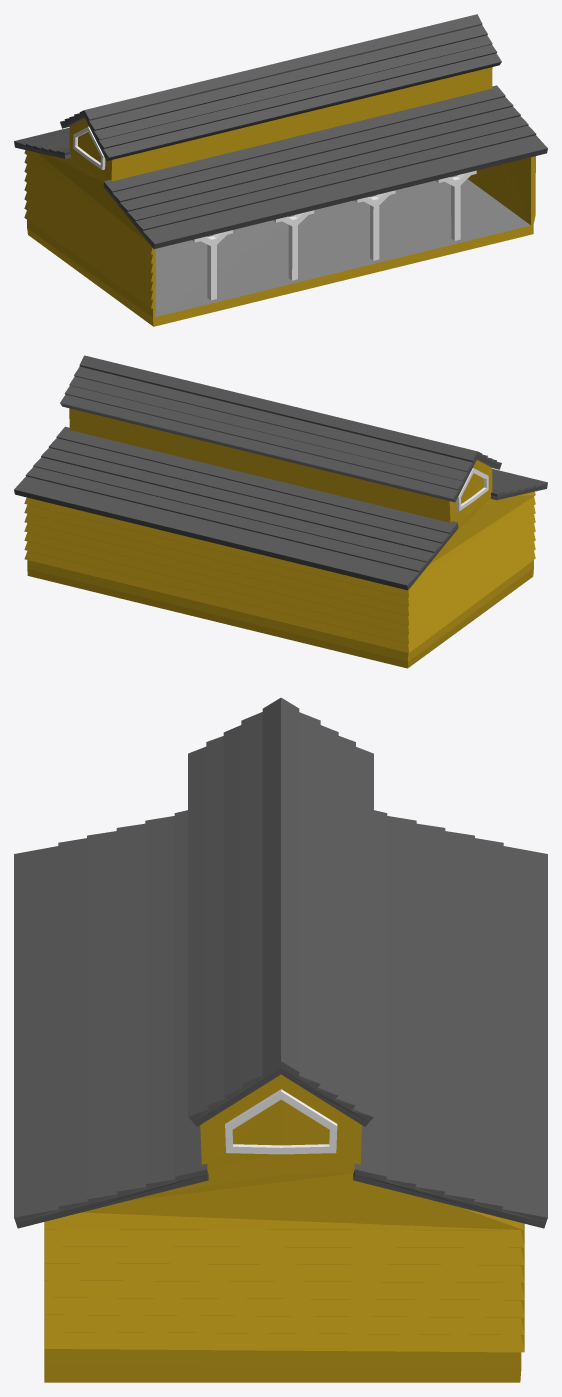
File: 073 Warehouse_6.fbx
3 views of the same model, one above another, from view 1: azimuth 30°, elevation 25°; view 2: azimuth 150°, elevation 25°; view 3: azimuth 270°, elevation 25° (orthographic). The views are drawn at different scales.
Visible parts, largest first — view 1: Box177; view 2: Box177; view 3: Box177.
Part boxes in pixels (<box>): Box177: <box>14,14,547,326</box>; Box177: <box>14,355,547,668</box>; Box177: <box>14,697,547,1382</box>.
Size of the model in its own units: 733 by 307 by 454.
